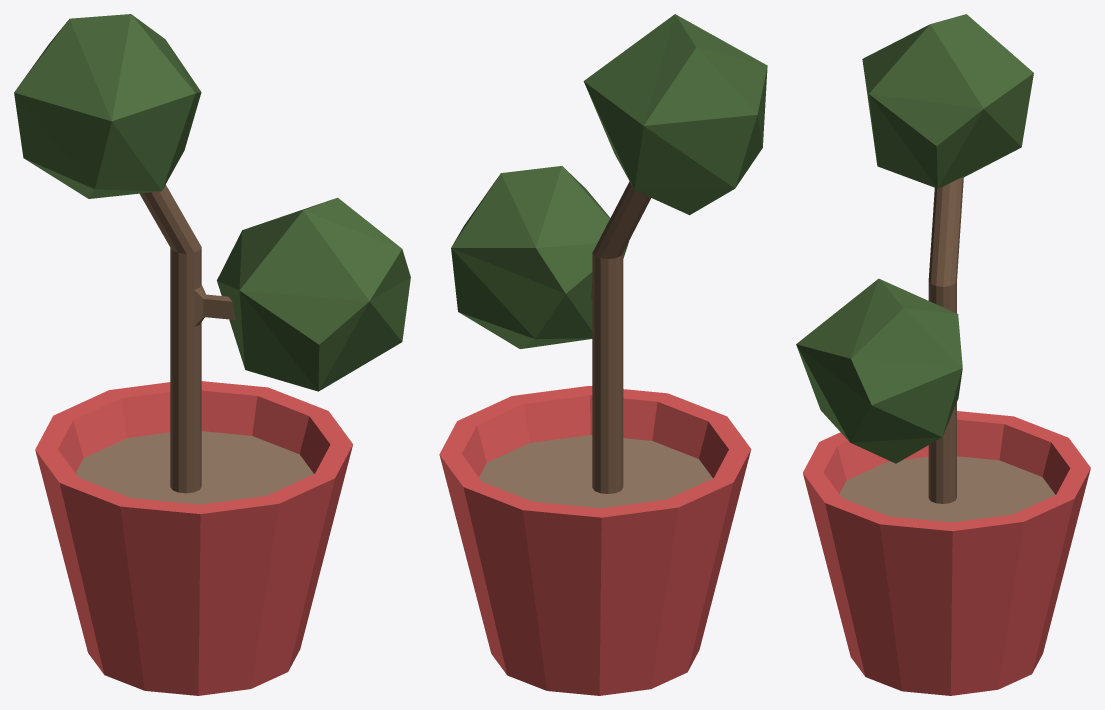
File: DeskPlanet.fbx
The picture shows the model from 3 angles, left to right: view 1: azimuth 30°, elevation 25°; view 2: azimuth 150°, elevation 25°; view 3: azimuth 270°, elevation 25°; orthographic projection. The views are drawn at different scales.
Visible parts, largest first — view 1: DeskPlanet; view 2: DeskPlanet; view 3: DeskPlanet.
Boxes of the visible parts, left/top/right/bottom form: DeskPlanet: left=14, top=14, right=410, bottom=695; DeskPlanet: left=439, top=14, right=767, bottom=695; DeskPlanet: left=796, top=14, right=1090, bottom=695.
Bounding box in the file's own units: 88.71 × 161 × 71.83.
